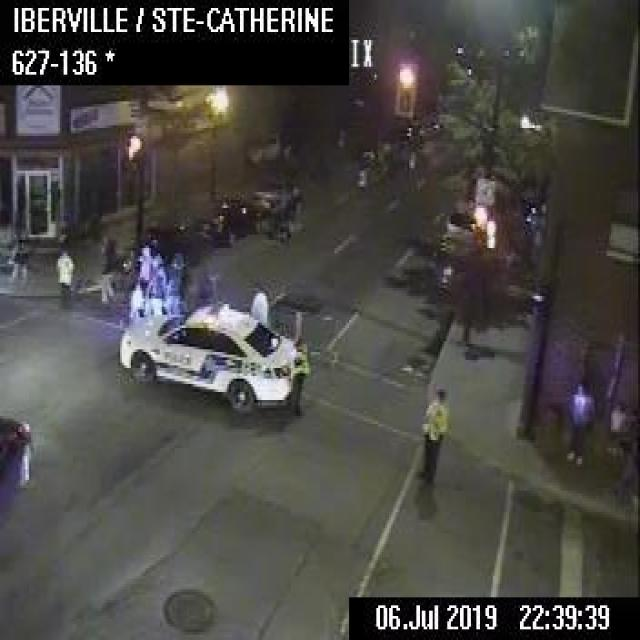pedestrian: (416, 390, 447, 486), (566, 373, 596, 467), (288, 333, 309, 410), (606, 389, 626, 462), (134, 237, 162, 283), (98, 232, 115, 302), (123, 263, 146, 313), (54, 245, 72, 308), (10, 227, 27, 281), (194, 270, 219, 300), (249, 283, 269, 320)
vehicle: (115, 298, 292, 411), (130, 206, 201, 271), (0, 410, 33, 522), (436, 194, 473, 258), (200, 195, 248, 241), (342, 147, 380, 185)
